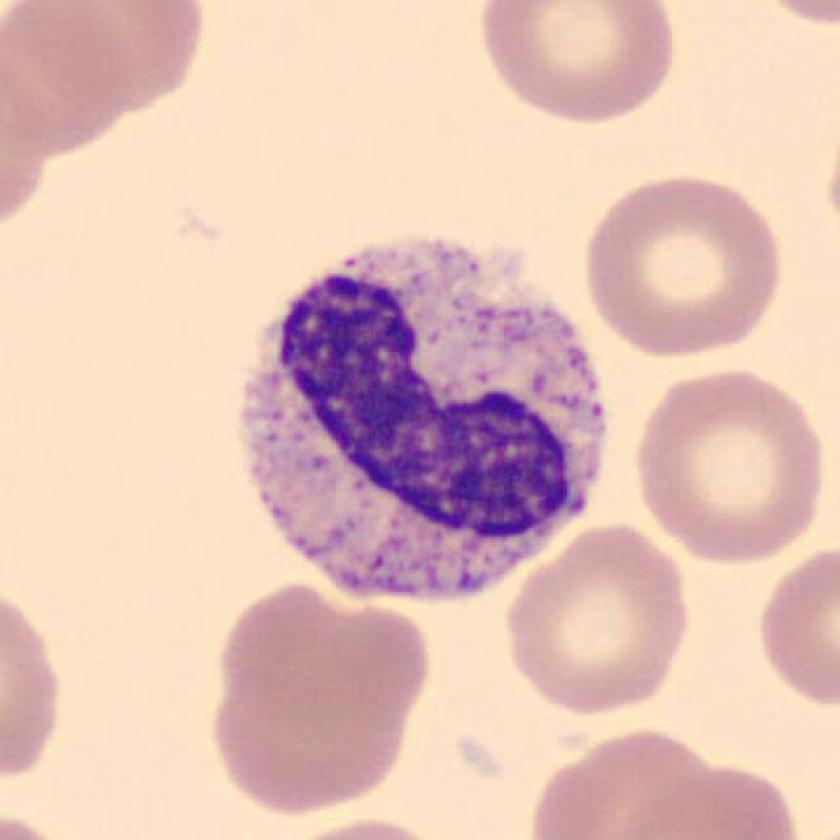neutrophil: (243, 233, 602, 601)
